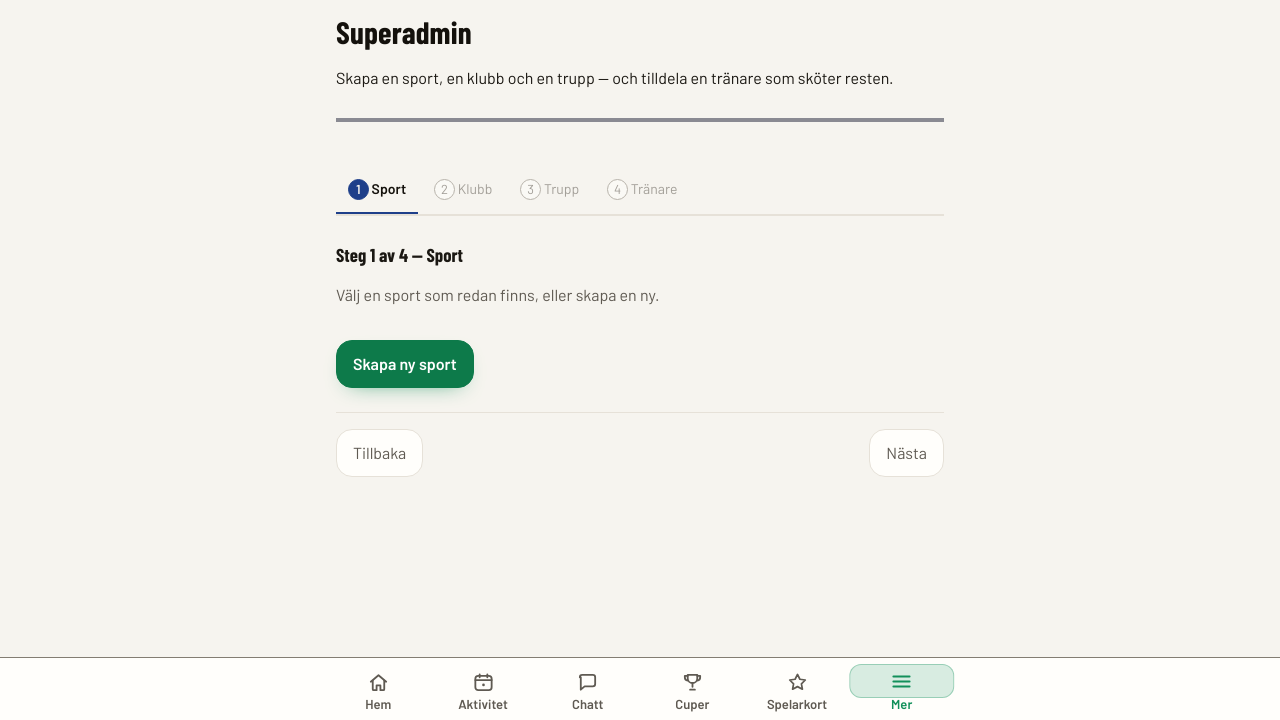
it: Uppsättningsguiden › går vidare till klubb-steget när en sport valts
The width and height of the screenshot is (1280, 720).
Click the button "Skapa ny sport" at (405, 364), box 336,340 -> 474,388
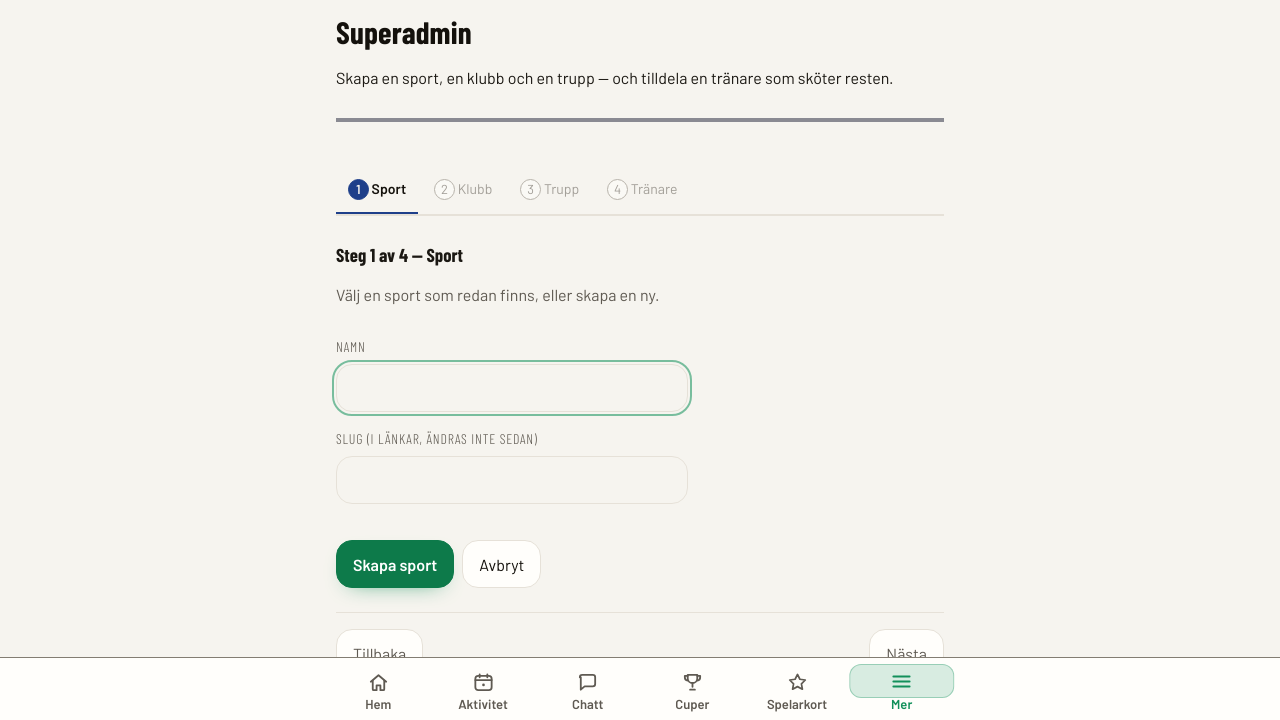
Type "Fotboll" into the field labelled "Namn" at (512, 388), box 336,364 -> 688,412
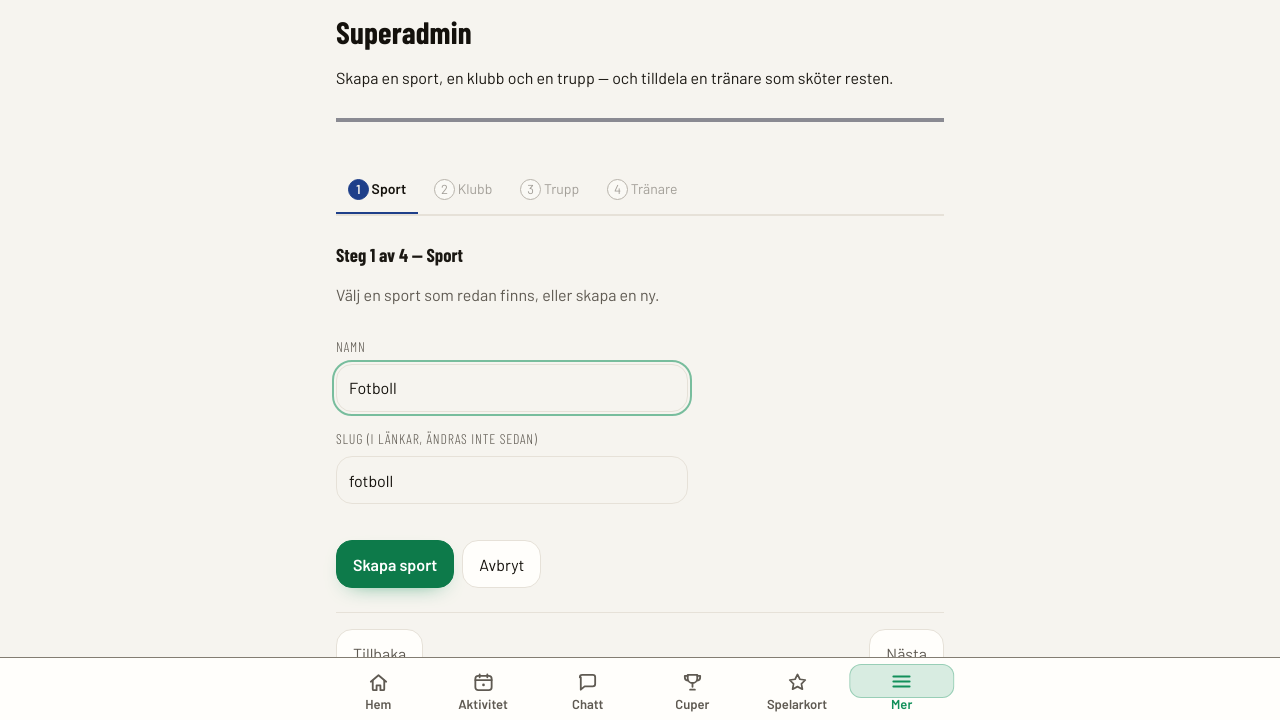
Click the button "Skapa sport" at (395, 564), box 336,540 -> 454,588
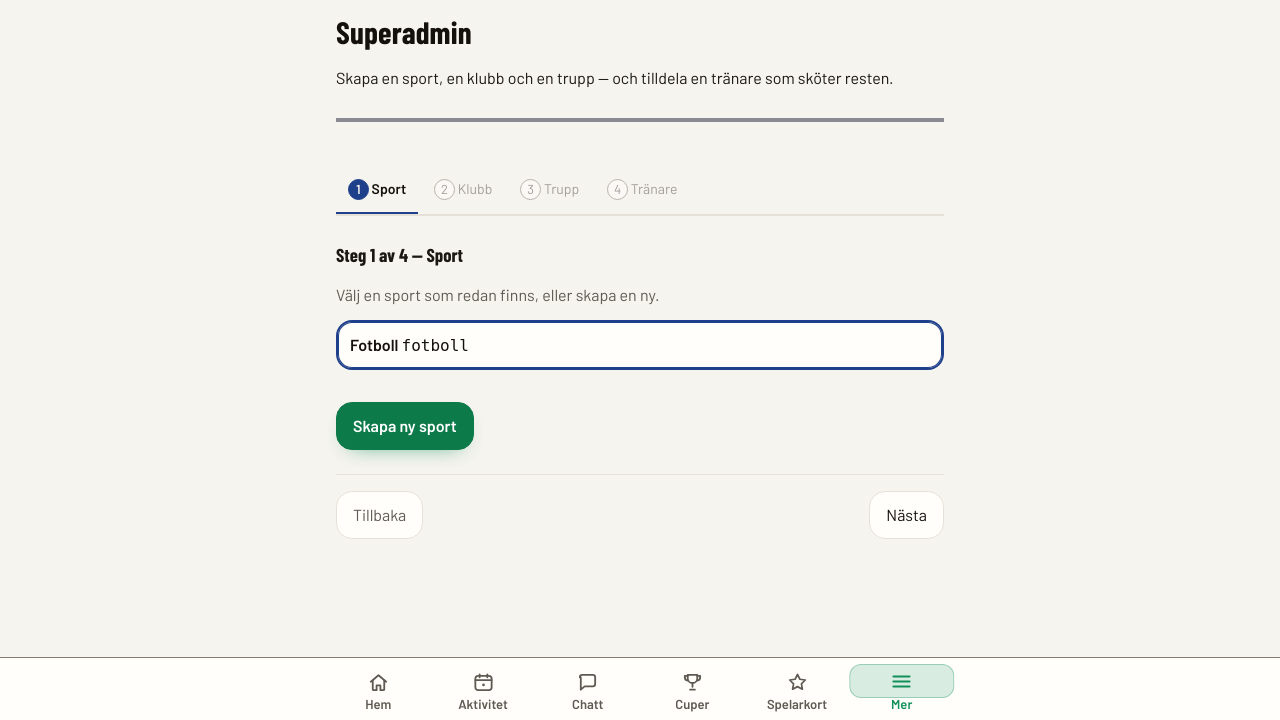
Now the radio button labelled "Fotboll fotboll" is shown, box 336,320 -> 944,370
Click the button "Nästa" at (907, 515), box 869,491 -> 944,539
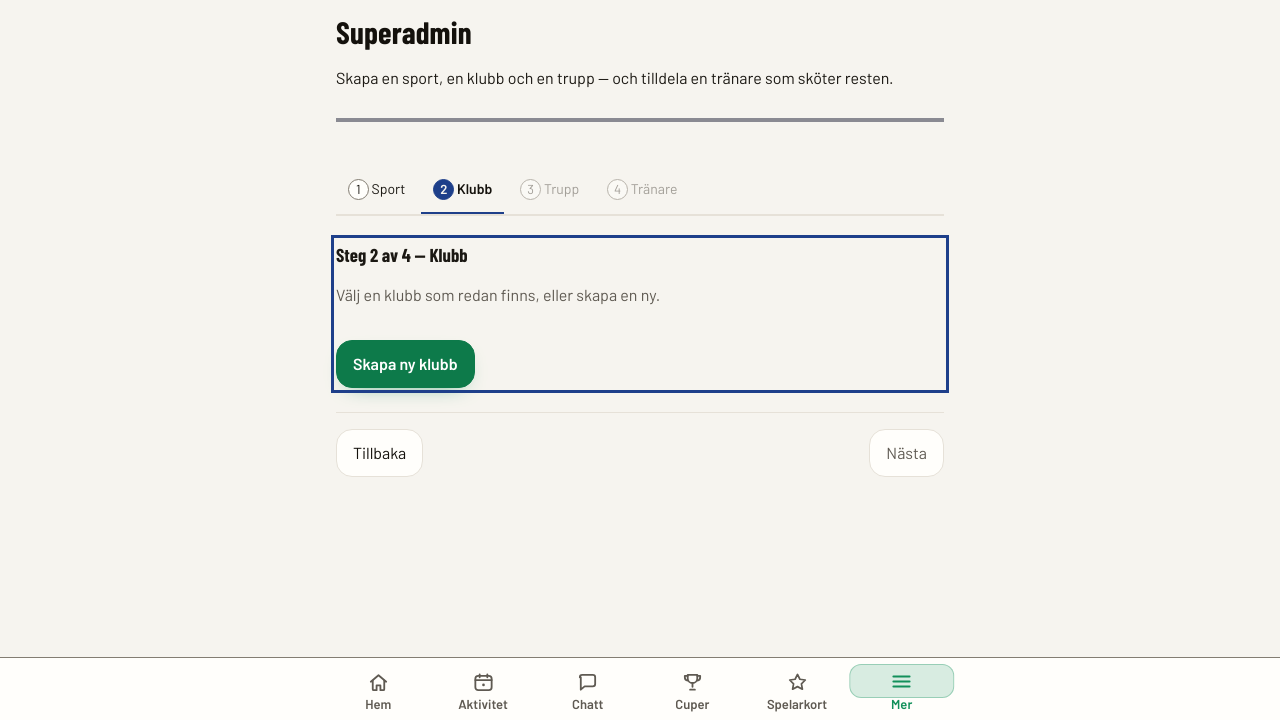
Now the heading "Steg 2 av 4 — Klubb" is shown, box 336,243 -> 468,266
